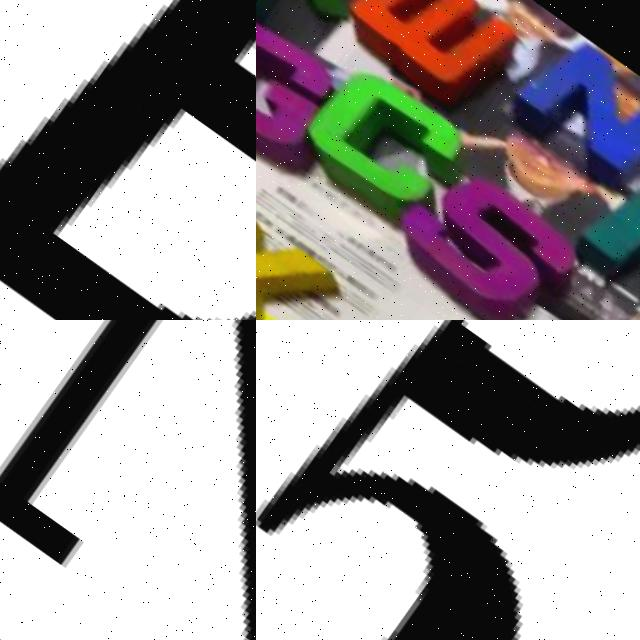5: (256, 320, 640, 640)
C: (294, 53, 471, 224)
G: (256, 10, 356, 176)
K: (565, 156, 640, 320)
N: (0, 320, 256, 640), (505, 24, 640, 210)
S: (388, 157, 593, 320)
W: (337, 0, 535, 125)
X: (256, 179, 342, 320)
